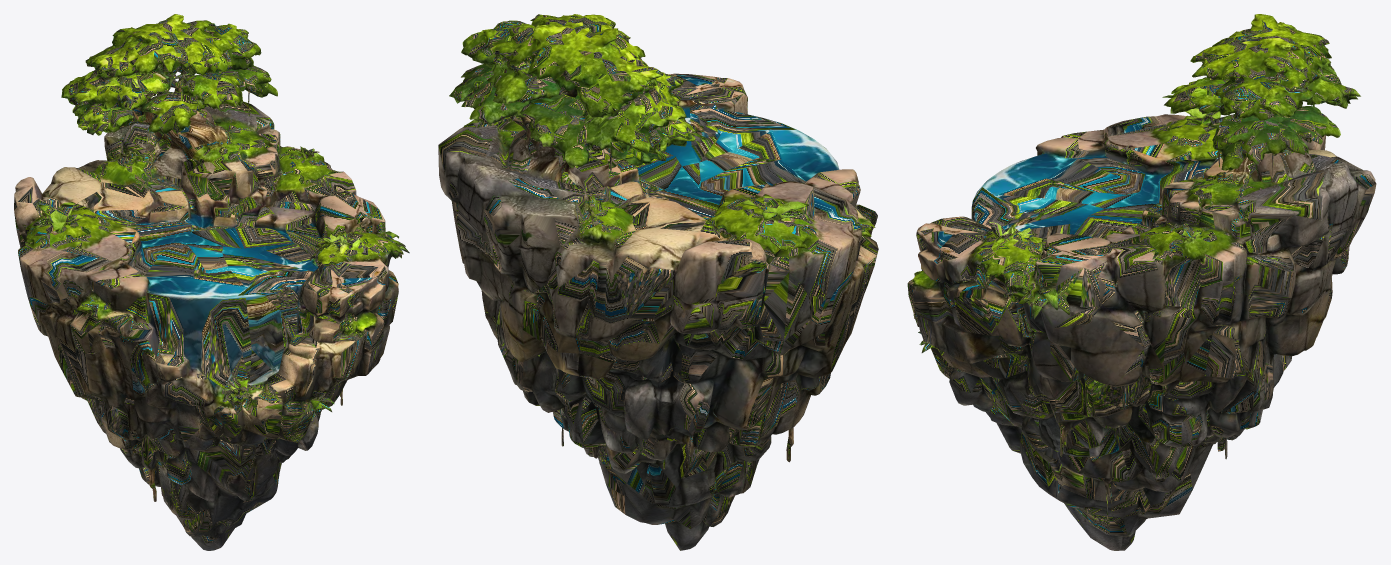
The model's file is Floating_Stone_Island.glb.
The picture shows the model from 3 angles, left to right: view 1: azimuth 30°, elevation 25°; view 2: azimuth 150°, elevation 25°; view 3: azimuth 270°, elevation 25°; orthographic projection. The views are drawn at different scales.
Parts seen in each view (by area): view 1: Floating_Stone_Island; view 2: Floating_Stone_Island; view 3: Floating_Stone_Island.
Part boxes in pixels (<box>): Floating_Stone_Island: <box>14,14,409,550</box>; Floating_Stone_Island: <box>438,14,878,550</box>; Floating_Stone_Island: <box>907,14,1376,550</box>.
Size of the model in its own units: 1.37 by 1.91 by 1.52.
1 material, 1 textured.
